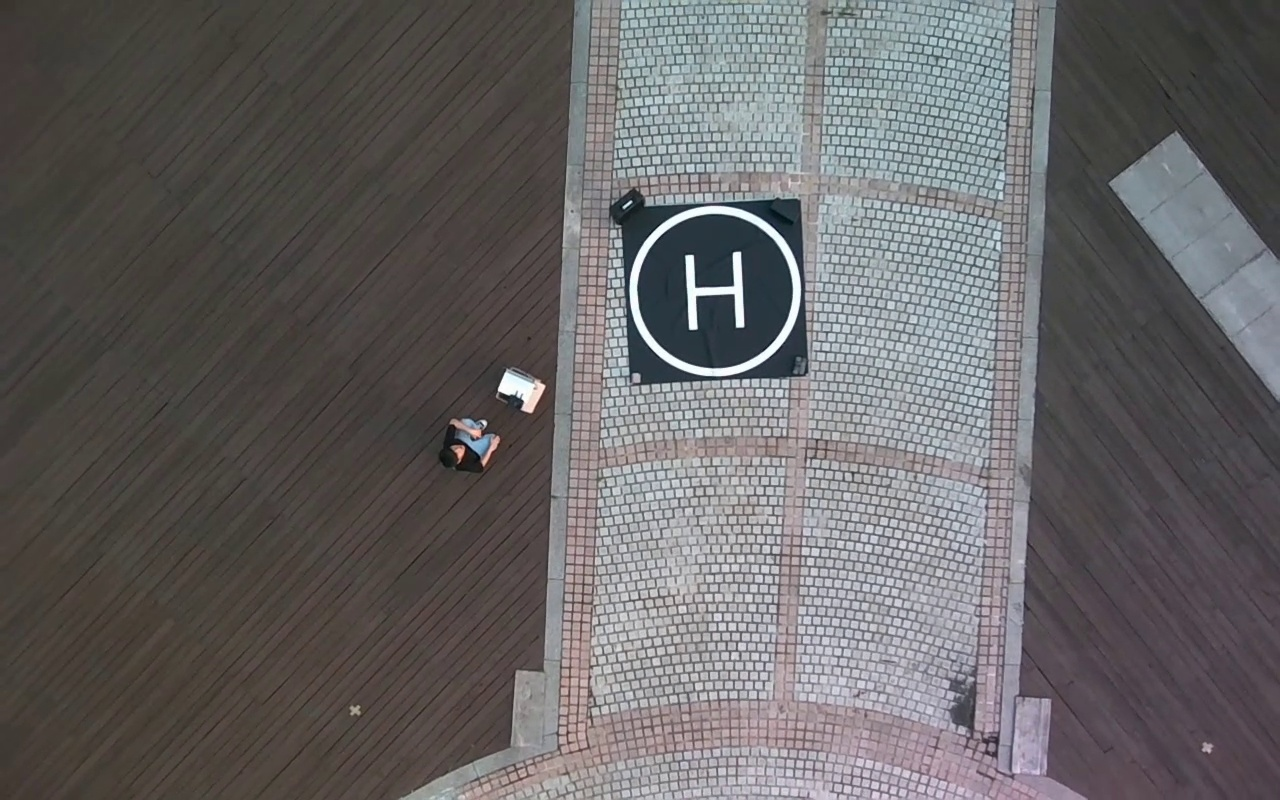H: (682, 248, 747, 331)
heliport: (629, 207, 802, 376)
